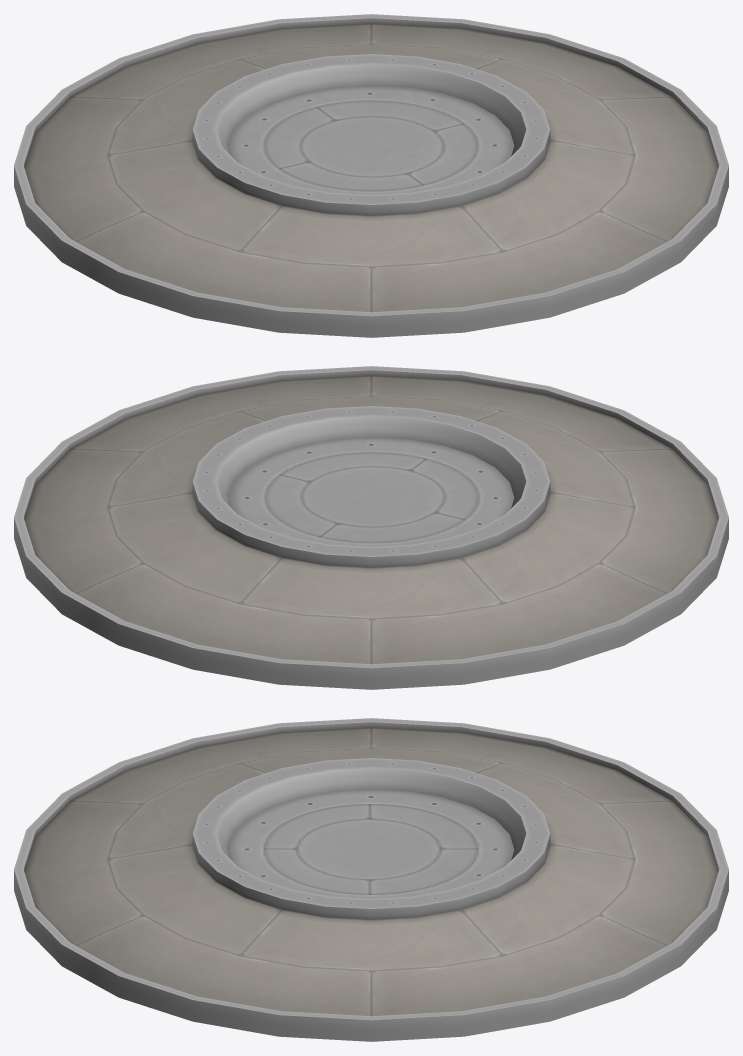
File: Alniyat_Mount_2.obj
3 renders of one model, top to bottom at view 1: azimuth 30°, elevation 25°; view 2: azimuth 150°, elevation 25°; view 3: azimuth 270°, elevation 25°, orthographic.
Visible parts, largest first — view 1: Alniyat_Mount_2; view 2: Alniyat_Mount_2; view 3: Alniyat_Mount_2.
Part boxes in pixels (x1,y1,x2,y2): Alniyat_Mount_2: [14, 14, 728, 337]; Alniyat_Mount_2: [14, 366, 728, 689]; Alniyat_Mount_2: [14, 718, 728, 1041].
Bounding box in the file's own units: 1.88 × 0.1656 × 1.88.
